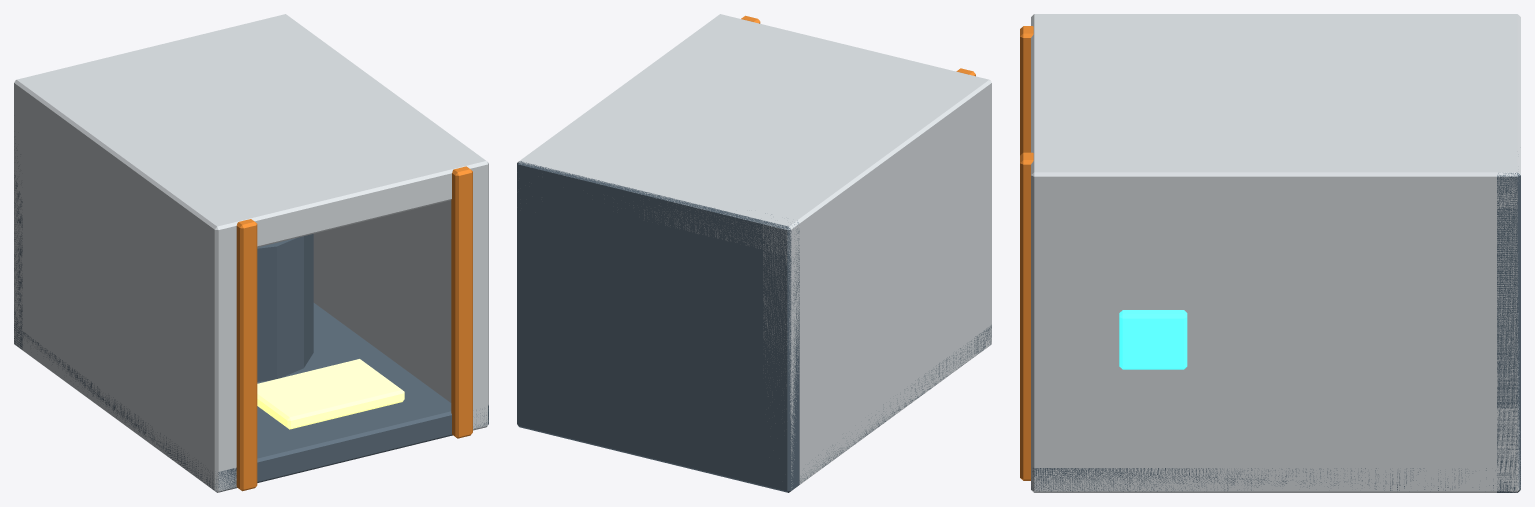
The model's file is machine-foundry.fbx.
3 views of the same model, side by side, from view 1: azimuth 30°, elevation 25°; view 2: azimuth 150°, elevation 25°; view 3: azimuth 270°, elevation 25° (orthographic). The views are drawn at different scales.
Visible parts, largest first — view 1: machine-foundry_Crown.001, machine-foundry_Machine column.002, machine-foundry_Machine column.003, machine-foundry_Skid.001, machine-foundry_Crucible.001, machine-foundry_Casting lip.001, machine-foundry_Orange spine.002, machine-foundry_Orange spine.003, machine-foundry_Backplane.001; view 2: machine-foundry_Backplane.001, machine-foundry_Crown.001, machine-foundry_Machine column.002, machine-foundry_Skid.001; view 3: machine-foundry_Machine column.003, machine-foundry_Crown.001, machine-foundry_Backplane.001, machine-foundry_Operator display.001, machine-foundry_Orange spine.003, machine-foundry_Skid.001, machine-foundry_Orange spine.002.
Part boxes in pixels (x1,y1,x2,y2): machine-foundry_Crown.001: (14,14,488,255); machine-foundry_Machine column.002: (14,83,236,492); machine-foundry_Machine column.003: (313,164,488,430); machine-foundry_Skid.001: (14,303,488,492); machine-foundry_Crucible.001: (257,234,313,381); machine-foundry_Casting lip.001: (257,359,404,429); machine-foundry_Orange spine.002: (236,219,257,491); machine-foundry_Orange spine.003: (451,166,472,438); machine-foundry_Backplane.001: (14,143,22,349); machine-foundry_Backplane.001: (517,161,799,492); machine-foundry_Crown.001: (517,14,991,255); machine-foundry_Machine column.002: (763,84,991,487); machine-foundry_Skid.001: (730,325,991,490); machine-foundry_Machine column.003: (1031,174,1520,492); machine-foundry_Crown.001: (1031,14,1520,207); machine-foundry_Backplane.001: (1497,172,1520,492); machine-foundry_Operator display.001: (1119,310,1187,369); machine-foundry_Orange spine.003: (1020,152,1033,480); machine-foundry_Skid.001: (1031,468,1520,491); machine-foundry_Orange spine.002: (1020,26,1033,155).
Bounding box in the file's own units: 296 × 260 × 368.
